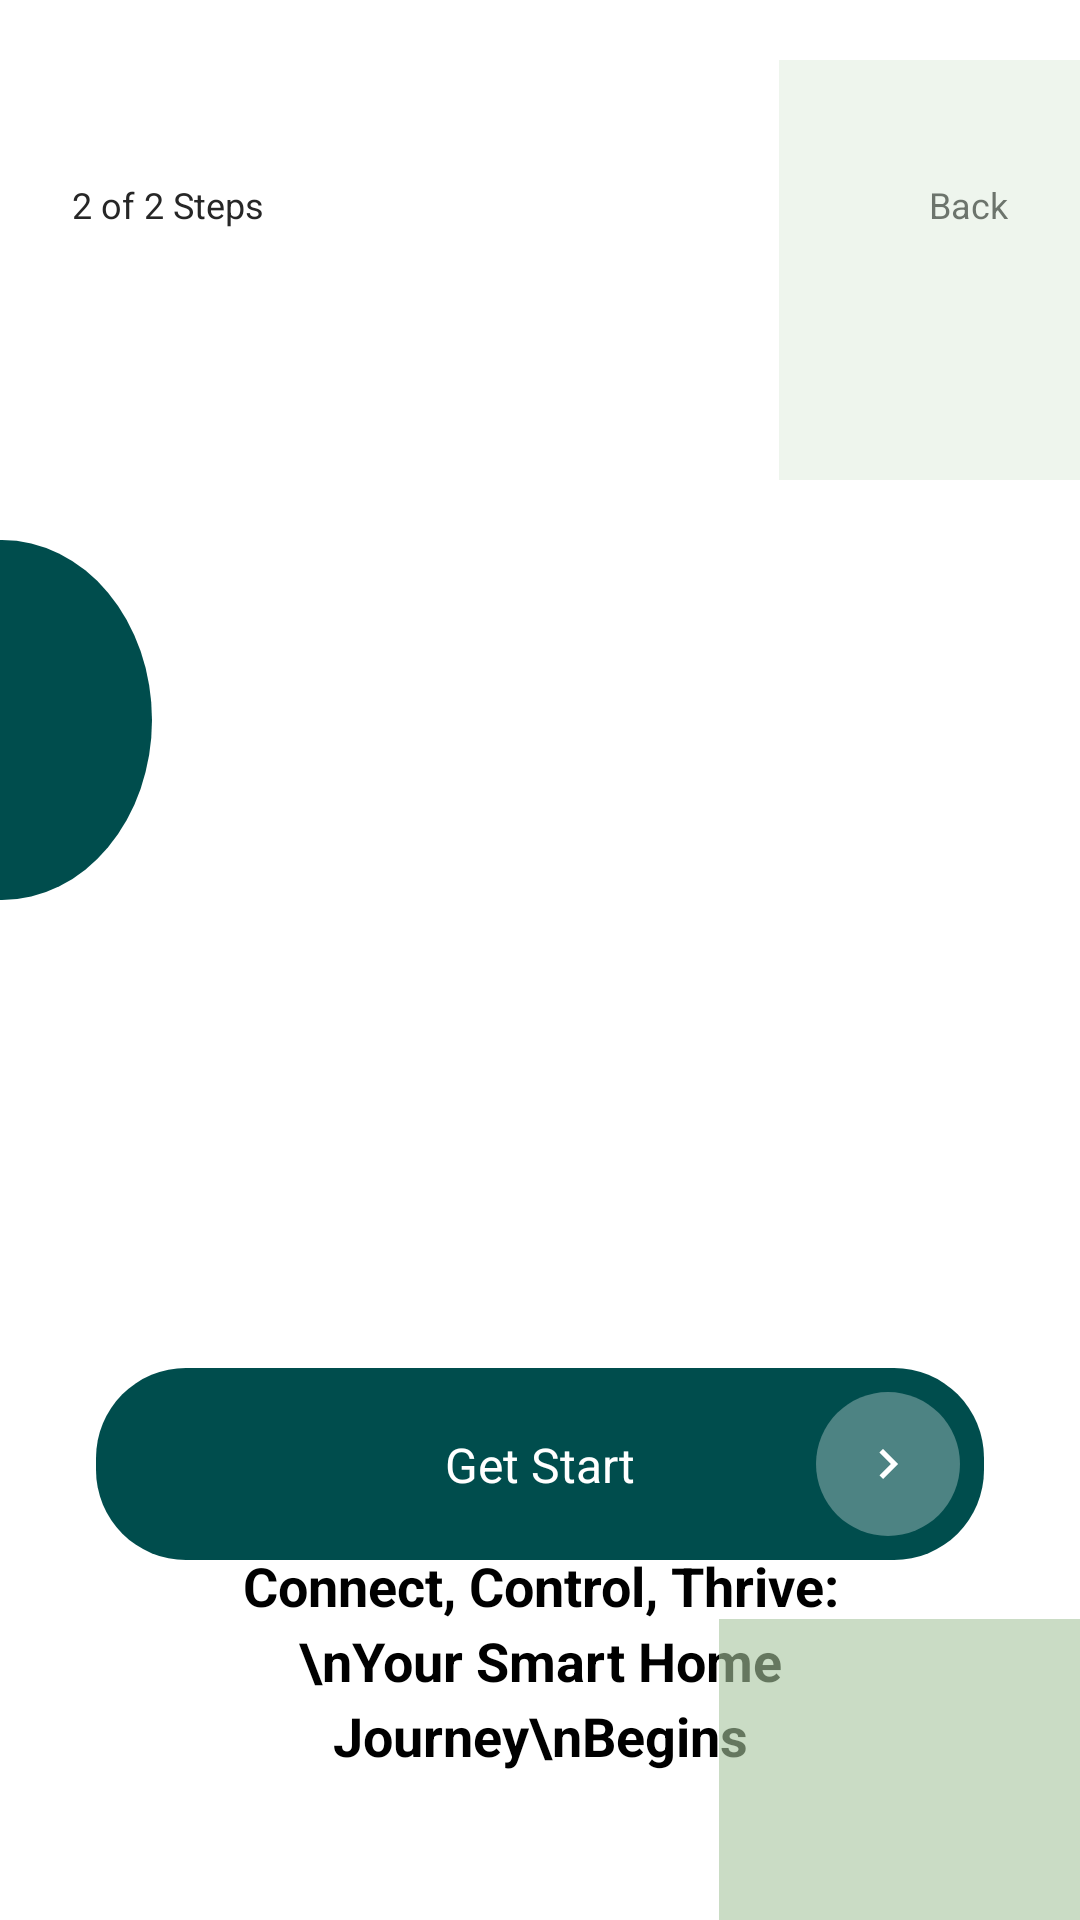

Screen size 1080px×1920px. Icon name, then its box in pixels as (x1, y1, x2, y2):
arrow forward: (879, 1449, 898, 1479)
